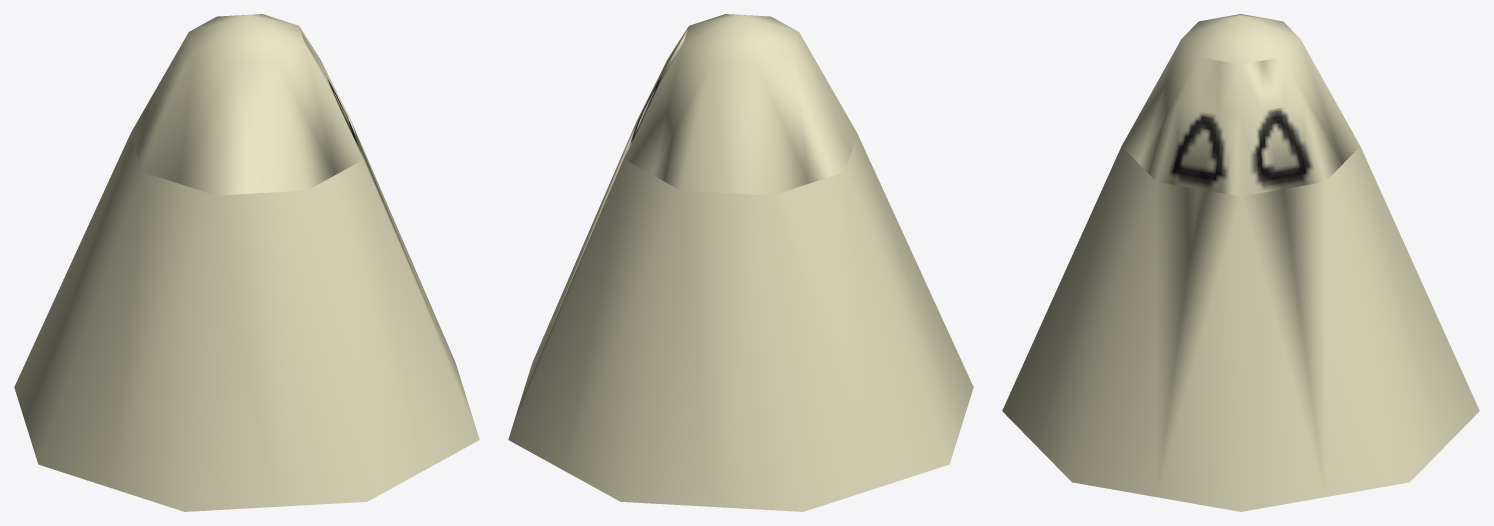
Rendered from hill5.dae.
3 views of the same model, side by side, from view 1: azimuth 30°, elevation 25°; view 2: azimuth 150°, elevation 25°; view 3: azimuth 270°, elevation 25° (orthographic).
Parts seen in each view (by area): view 1: Circle.001; view 2: Circle.001; view 3: Circle.001.
Boxes of the visible parts, x1,y1,x2,y2 form: Circle.001: (14, 14, 479, 511); Circle.001: (508, 14, 973, 511); Circle.001: (1002, 14, 1479, 511).
Bounding box in the file's own units: 2.02 × 2.02 × 1.84.
1 material, 1 textured.
